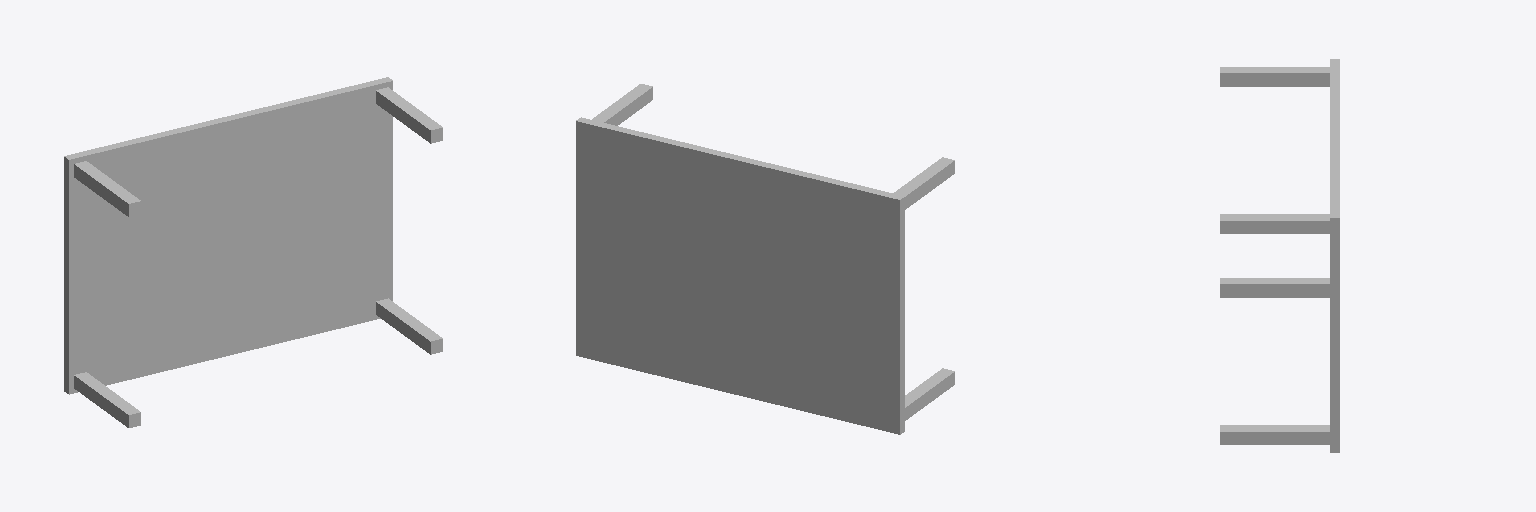
File: random_table60.obj
3 views of the same model, side by side, from view 1: azimuth 30°, elevation 25°; view 2: azimuth 150°, elevation 25°; view 3: azimuth 270°, elevation 25° (orthographic).
Parts seen in each view (by area): view 1: Table_Cube.1365, TableLeg0_Cube.1366, TableLeg1_Cube.1367, TableLeg3_Cube.1369, TableLeg2_Cube.1368; view 2: Table_Cube.1365, TableLeg1_Cube.1367, TableLeg3_Cube.1369, TableLeg0_Cube.1366; view 3: Table_Cube.1365, TableLeg0_Cube.1366, TableLeg1_Cube.1367, TableLeg2_Cube.1368, TableLeg3_Cube.1369.
Part boxes in pixels (x1,y1,x2,y2): Table_Cube.1365: (64, 77, 392, 394); TableLeg0_Cube.1366: (376, 87, 442, 143); TableLeg1_Cube.1367: (74, 161, 140, 216); TableLeg3_Cube.1369: (74, 372, 140, 427); TableLeg2_Cube.1368: (376, 298, 442, 354); Table_Cube.1365: (576, 117, 904, 434); TableLeg1_Cube.1367: (894, 157, 954, 209); TableLeg3_Cube.1369: (905, 368, 954, 420); TableLeg0_Cube.1366: (592, 84, 652, 125); Table_Cube.1365: (1330, 59, 1339, 452); TableLeg0_Cube.1366: (1220, 214, 1329, 233); TableLeg1_Cube.1367: (1220, 67, 1329, 86); TableLeg2_Cube.1368: (1220, 425, 1329, 444); TableLeg3_Cube.1369: (1220, 278, 1329, 297).
Bounding box in the file's own units: 11.44 × 7.91 × 3.66.